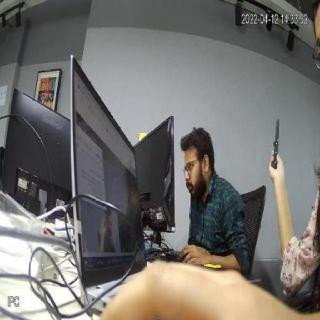knife: (272, 114, 284, 174)
